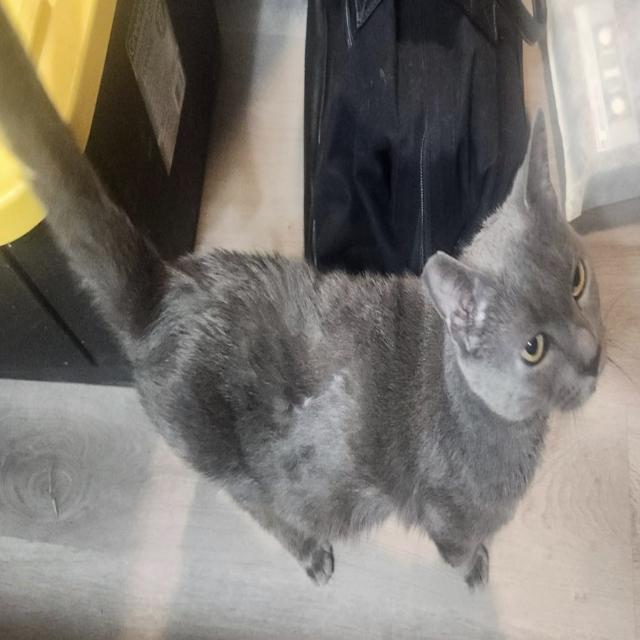russian_blue_cat: (413, 101, 615, 456)
